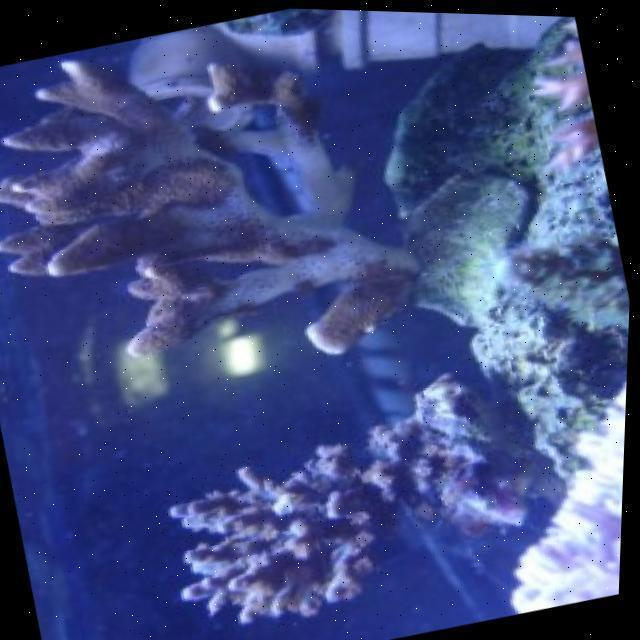Bleached Coral: (461, 361, 630, 615)
